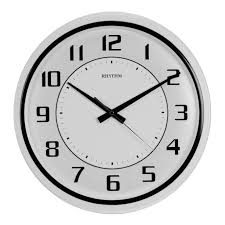alarm_clock: (13, 10, 210, 212), (17, 10, 210, 212), (17, 27, 210, 212)
